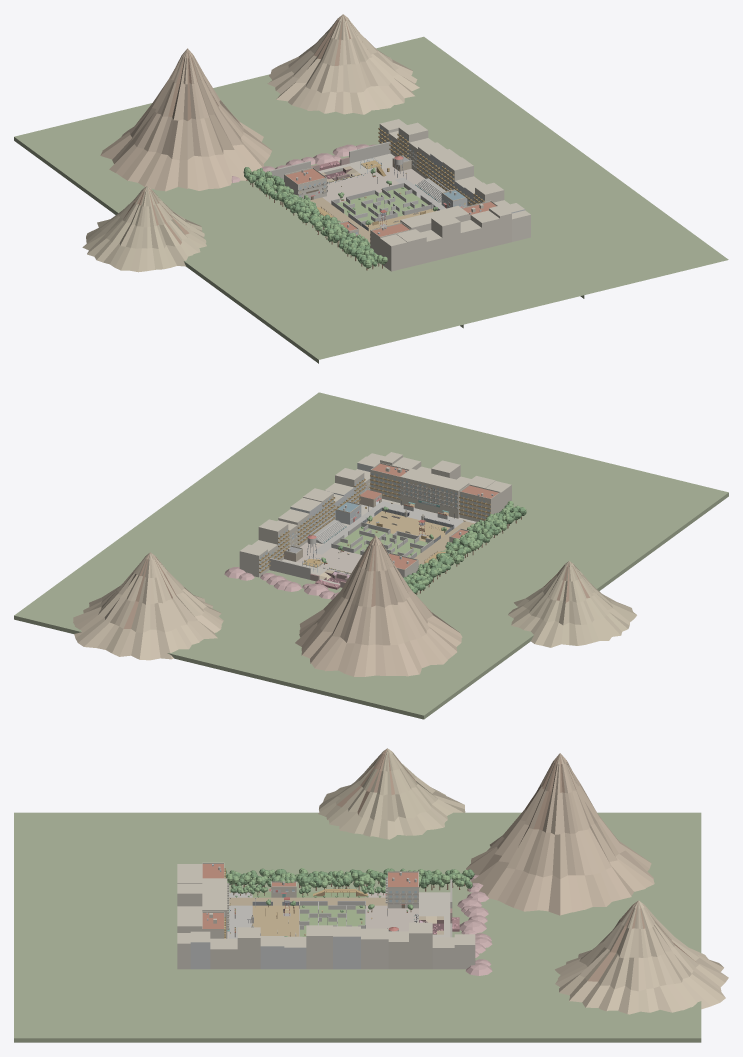
The model's file is Timo.glb.
3 renders of one model, top to bottom at view 1: azimuth 30°, elevation 25°; view 2: azimuth 150°, elevation 25°; view 3: azimuth 270°, elevation 25°, orthographic. The views are drawn at different scales.
Visible parts, largest first — view 1: perimetro.00, perimetro.01, chao.00, labirinto.00, ferida.00, base_celulas.00, patio_norte.00, corredor_leste.00; view 2: perimetro.00, perimetro.01, chao.00, base_celulas.00, labirinto.00, ferida.00, corredor_leste.00, patio_norte.00, rua_portao.00; view 3: perimetro.00, perimetro.01, chao.00, base_celulas.00, patio_norte.00, trilha_oeste.00, labirinto.00, ferida.00.
Boxes of the visible parts, x1,y1,x2,y2 form: perimetro.00: (14,36,728,363); perimetro.01: (82,14,530,272); chao.00: (310,153,446,242); labirinto.00: (331,182,433,225); ferida.00: (269,141,390,183); base_celulas.00: (370,200,497,254); patio_norte.00: (284,155,411,200); corredor_leste.00: (405,173,467,208); perimetro.00: (14,392,728,719); perimetro.01: (73,452,636,676); chao.00: (282,499,476,584); base_celulas.00: (370,462,500,521); labirinto.00: (331,522,433,558); ferida.00: (269,556,350,589); corredor_leste.00: (309,501,369,550); patio_norte.00: (284,535,418,577); rua_portao.00: (359,490,476,527); perimetro.00: (14,812,701,1042); perimetro.01: (177,748,728,1014); chao.00: (227,892,450,938); base_celulas.00: (202,862,235,938); patio_norte.00: (367,871,418,931); trilha_oeste.00: (230,881,385,897); labirinto.00: (299,901,365,936); ferida.00: (414,879,459,937).
Size of the model in its own units: 392 by 92.95 by 456.
